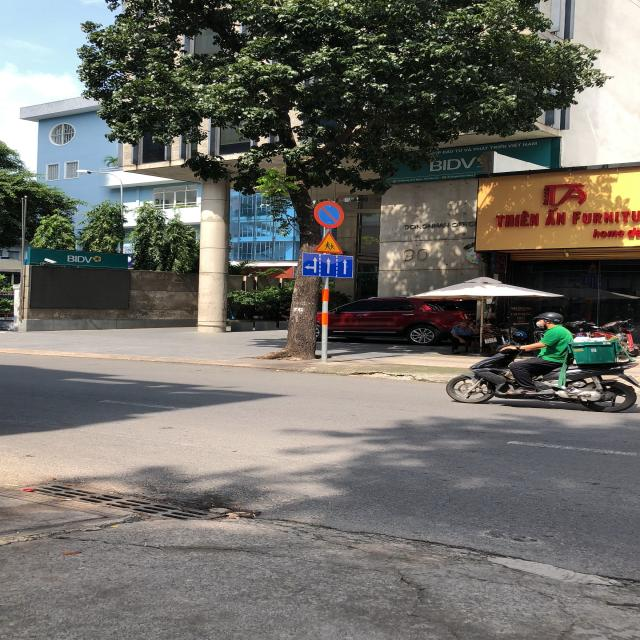Bien bao cam do xe: (312, 200, 344, 232)
Bien bao tre em: (314, 231, 344, 254)
